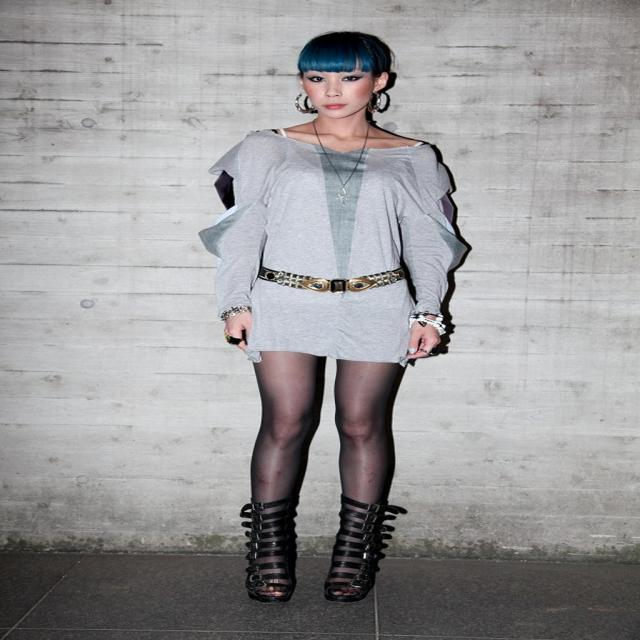Face: (302, 74, 381, 121)
